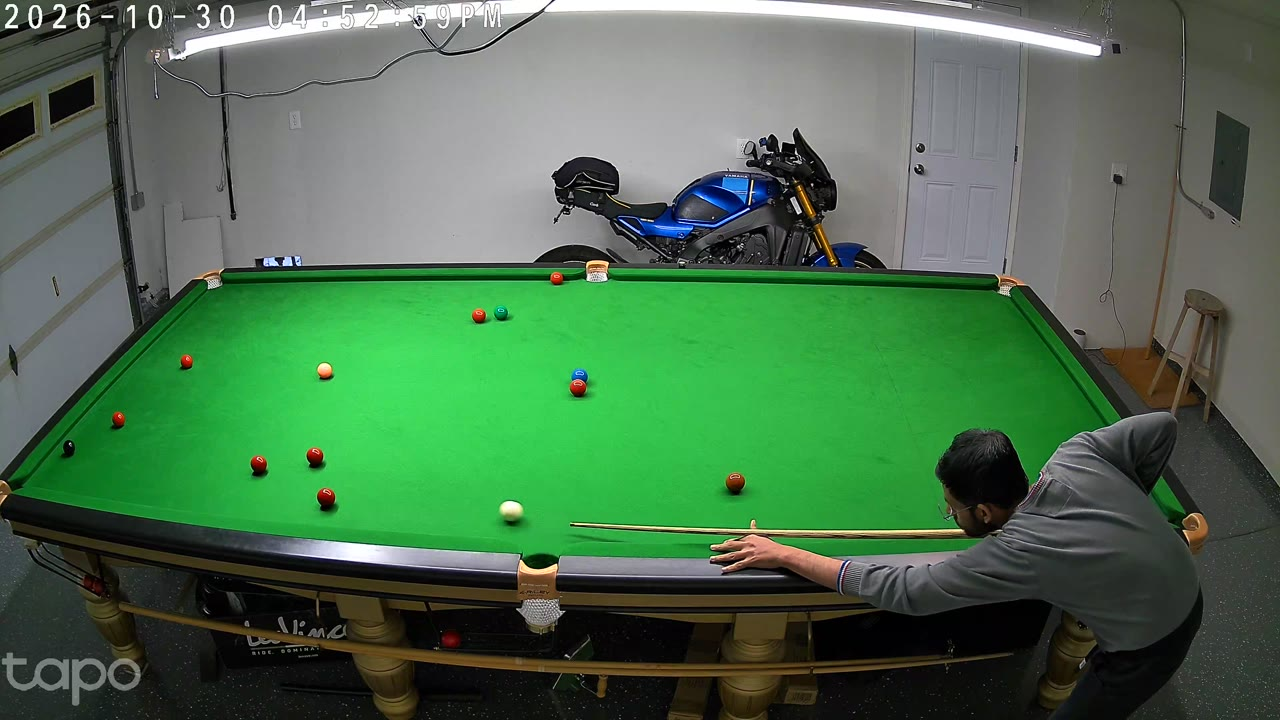black: (62, 438, 76, 459)
brown: (726, 471, 745, 496)
green: (495, 304, 507, 322)
pink: (318, 361, 332, 381)
red: (317, 486, 336, 512), (250, 453, 268, 478), (307, 445, 323, 470), (571, 378, 586, 398), (112, 410, 125, 430), (472, 307, 485, 326), (181, 353, 193, 371), (551, 271, 562, 288)
white: (499, 499, 524, 524)
